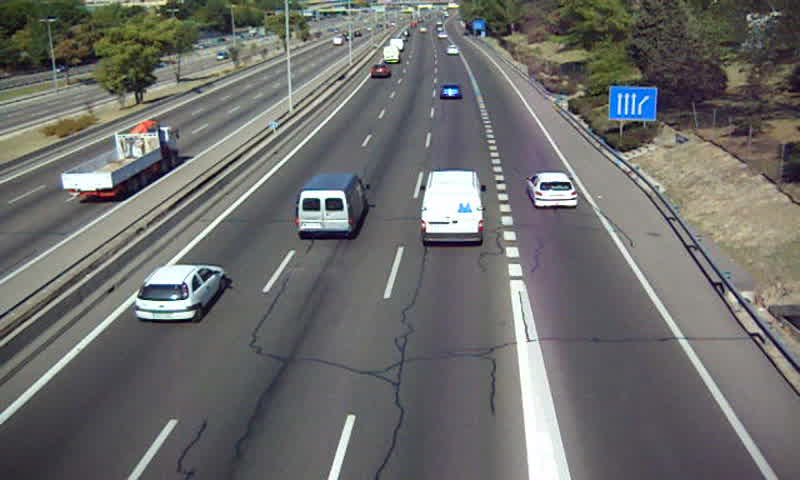car: (136, 265, 228, 321), (528, 172, 580, 207), (439, 82, 463, 100), (370, 64, 390, 79)
van: (295, 173, 367, 240), (420, 171, 483, 245), (382, 46, 400, 64)
